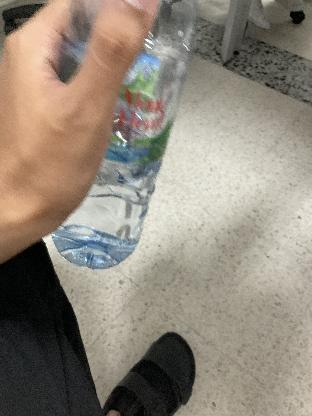Plastic Bottle: (48, 0, 196, 276)
